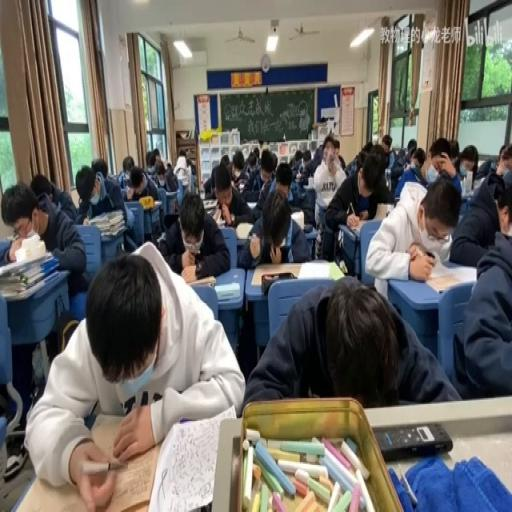calculator: (426, 263, 476, 292), (347, 212, 389, 239), (250, 263, 298, 286), (298, 260, 332, 280), (214, 282, 240, 300), (132, 195, 163, 209), (184, 273, 214, 286), (234, 222, 254, 240), (290, 209, 304, 230), (317, 191, 335, 206), (211, 204, 224, 224), (470, 175, 484, 192), (202, 196, 217, 208), (155, 232, 165, 243), (4, 232, 16, 240), (246, 201, 258, 209), (237, 180, 245, 190)
paper: (28, 239, 242, 508), (244, 275, 458, 408), (363, 176, 457, 300), (2, 176, 86, 294), (156, 188, 229, 278), (450, 164, 510, 270), (240, 189, 311, 270), (76, 162, 134, 253), (312, 134, 346, 228), (246, 151, 278, 209), (394, 145, 426, 199), (148, 156, 178, 192), (454, 144, 480, 184), (346, 142, 368, 174), (228, 150, 246, 184), (376, 132, 393, 168), (289, 175, 307, 209), (494, 199, 510, 235), (486, 172, 505, 202), (424, 155, 444, 181), (275, 161, 292, 189), (474, 159, 494, 179), (90, 158, 108, 180), (447, 138, 460, 164), (174, 166, 190, 186), (130, 172, 144, 194), (122, 155, 134, 179), (290, 148, 302, 171), (406, 138, 417, 159), (146, 149, 155, 171), (259, 138, 270, 154), (186, 158, 196, 175), (362, 141, 374, 155), (333, 138, 340, 162), (498, 142, 507, 160), (251, 145, 259, 161), (270, 152, 278, 168), (338, 155, 346, 171), (302, 150, 311, 164), (219, 154, 229, 165), (294, 171, 301, 179), (164, 159, 170, 168)
person: (374, 422, 452, 461), (338, 257, 347, 273), (194, 263, 202, 279), (424, 252, 434, 263)
